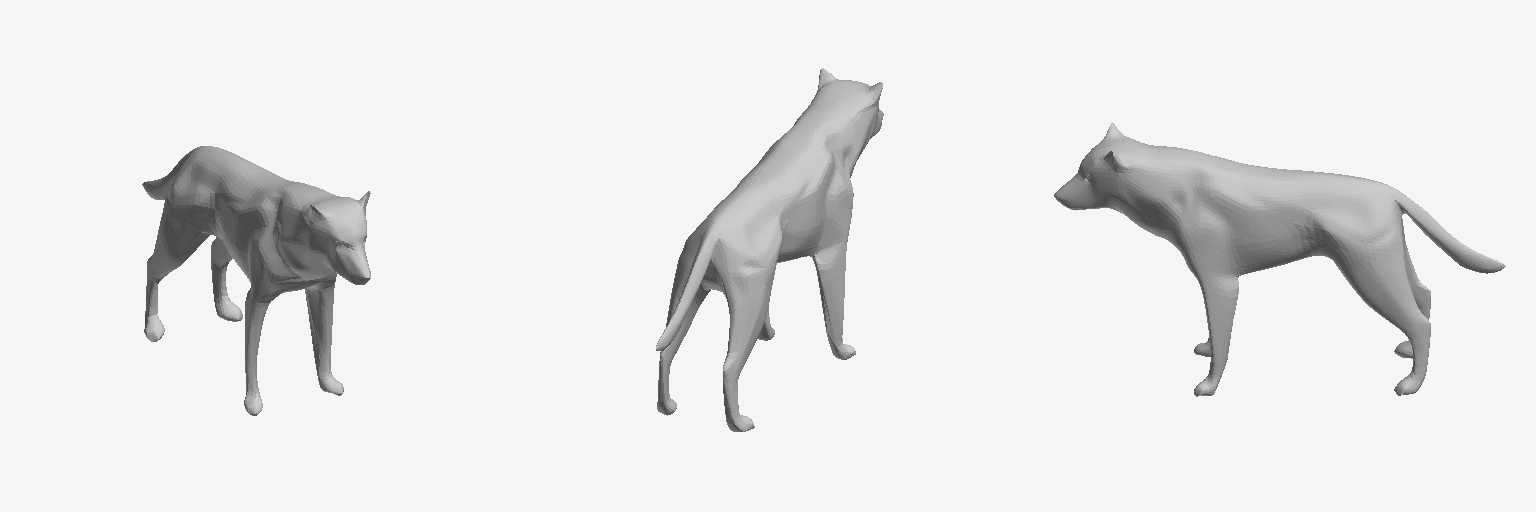
File: wolf2.obj
3 views of the same model, side by side, from view 1: azimuth 30°, elevation 25°; view 2: azimuth 150°, elevation 25°; view 3: azimuth 270°, elevation 25° (orthographic).
Parts seen in each view (by area): view 1: Wolf; view 2: Wolf; view 3: Wolf.
Part boxes in pixels (left/top/right/bottom): Wolf: left=142, top=146, right=370, bottom=415; Wolf: left=656, top=68, right=883, bottom=431; Wolf: left=1054, top=122, right=1505, bottom=396.
Bounding box in the file's own units: 0.2903 × 0.6882 × 1.18.